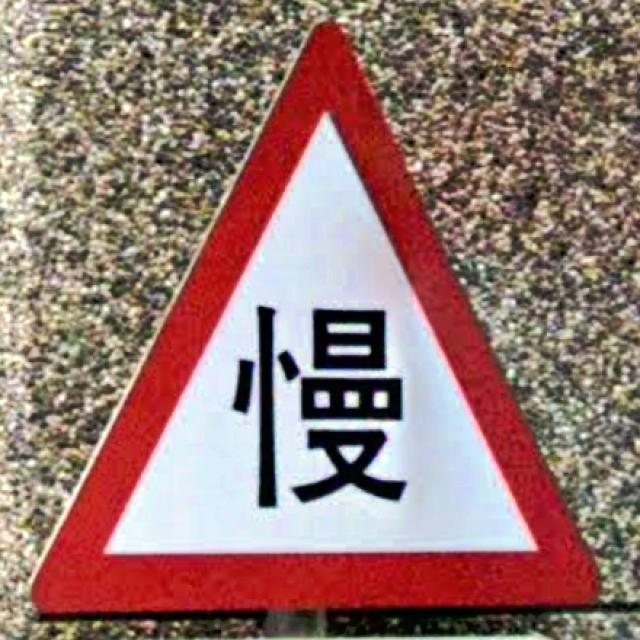slow: (29, 22, 601, 614)
